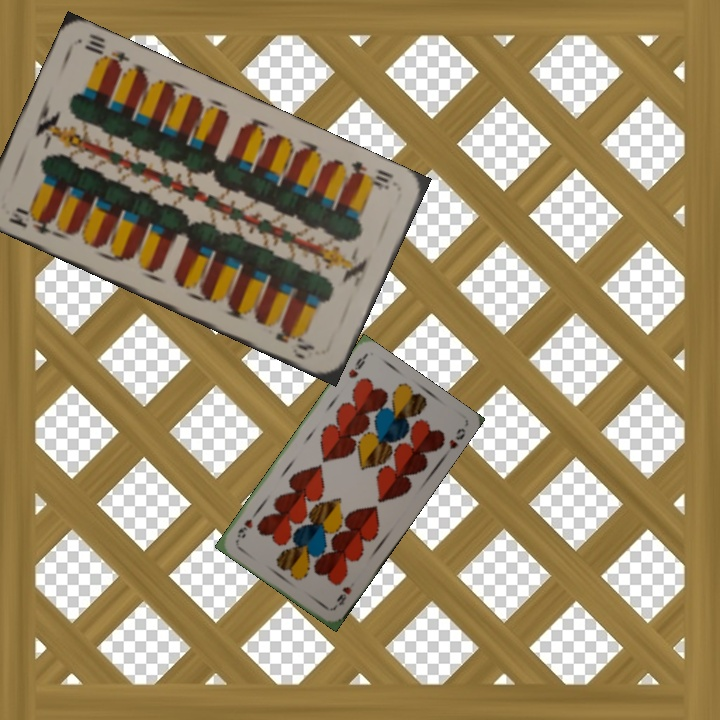E10: (4, 203, 58, 238), (346, 157, 396, 193)
H9: (330, 582, 354, 611), (344, 352, 368, 381)
